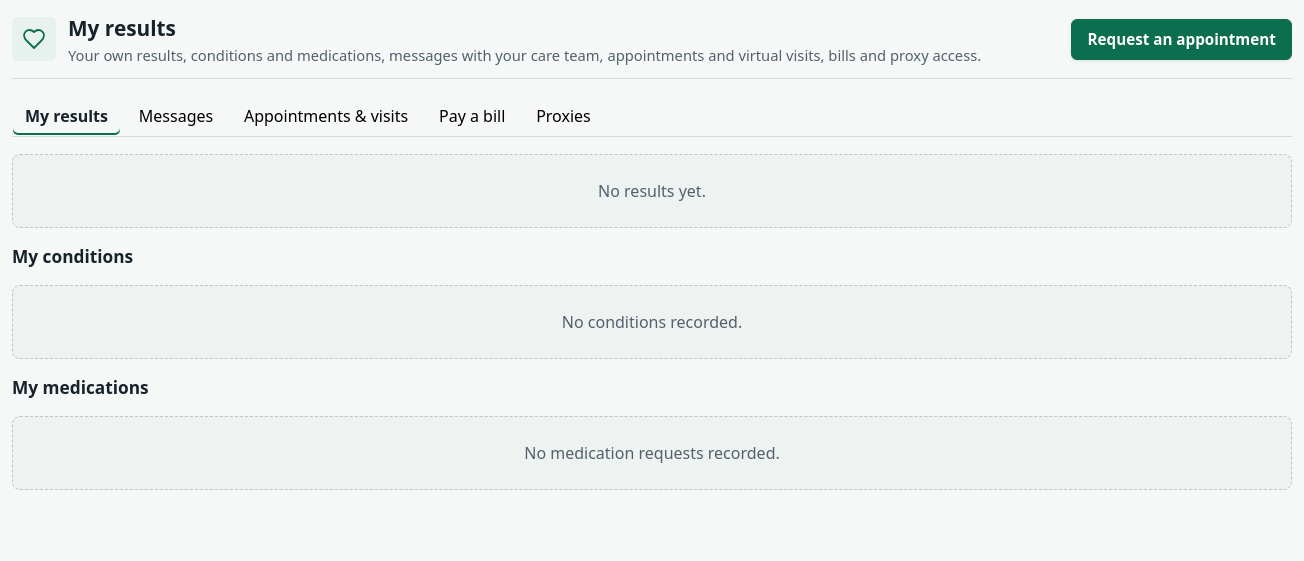
it: PortalPage — My virtual visits (BD-28 closure) › a visit with an outcome already submitted offers no second outcome
Step 1. Click the tab "Appointments & visits" → (326, 116), box left=231, top=95, right=421, bottom=136
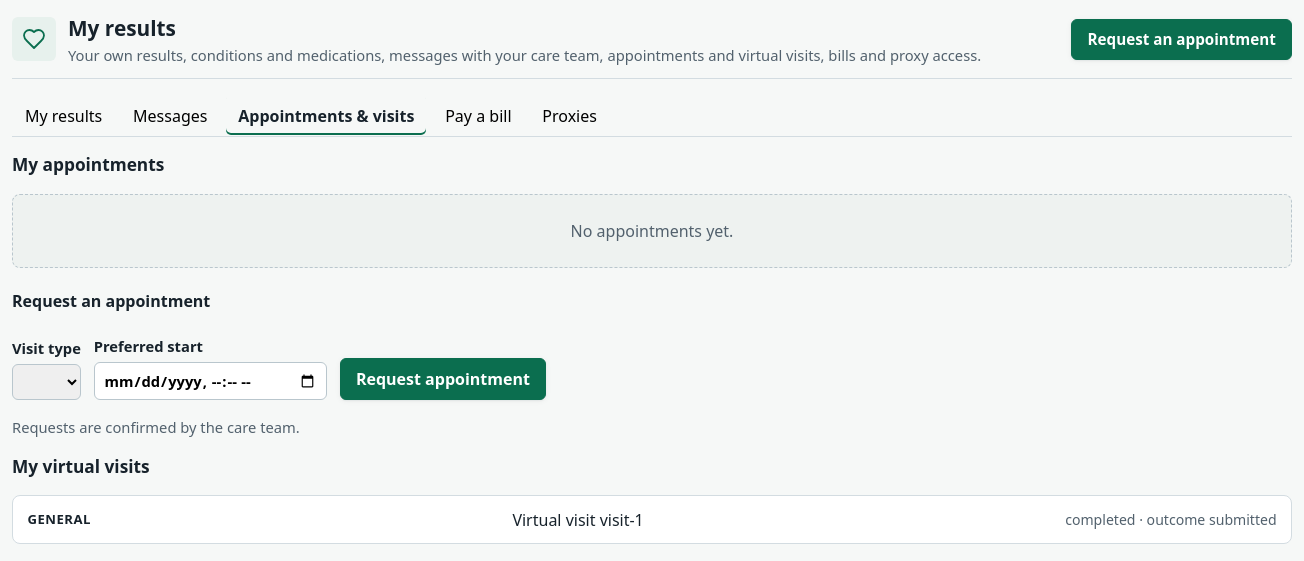
Expected: the text "completed · outcome submitted" is shown, left=1065, top=509, right=1277, bottom=530
